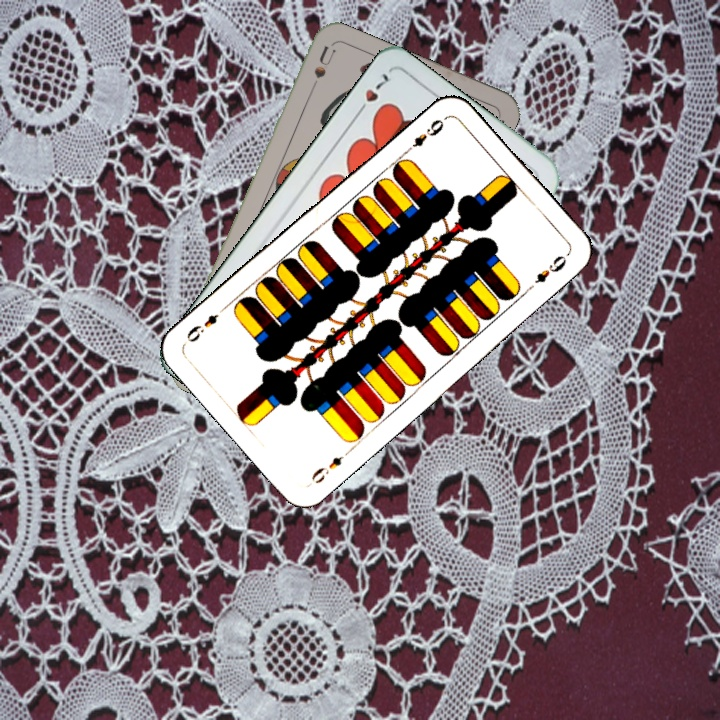E9: (401, 113, 449, 157), (307, 445, 354, 487)
H7: (351, 69, 392, 119)
SU: (303, 42, 337, 100)
